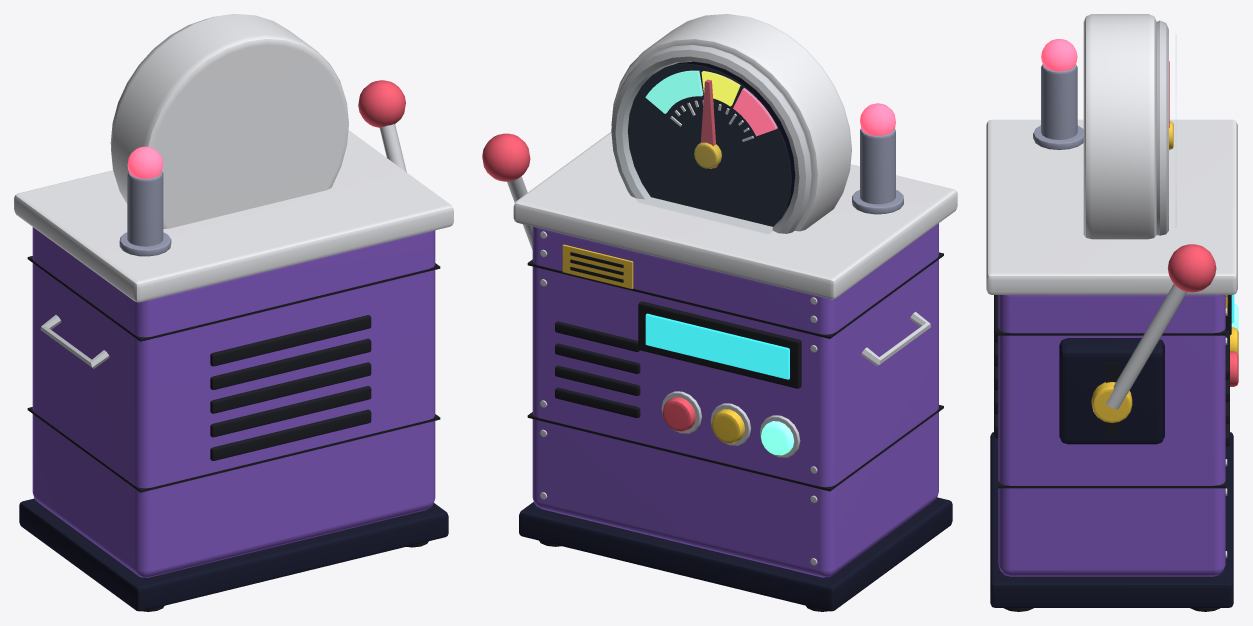
Rendered from task_calibrator.glb.
3 renders of one model, left to right at view 1: azimuth 30°, elevation 25°; view 2: azimuth 150°, elevation 25°; view 3: azimuth 270°, elevation 25°, orthographic.
Visible parts, largest first — view 1: Body, Lever; view 2: Body, Lever, Needle; view 3: Body, Lever.
Part boxes in pixels (bbox=[...]): Body: bbox=[14, 14, 453, 611]; Lever: bbox=[358, 80, 406, 172]; Body: bbox=[513, 14, 957, 611]; Lever: bbox=[482, 133, 532, 249]; Needle: bbox=[694, 79, 721, 168]; Body: bbox=[986, 14, 1238, 611]; Lever: bbox=[1106, 244, 1216, 409].
Bounding box in the file's own units: 1.08 × 1.4 × 0.622.
